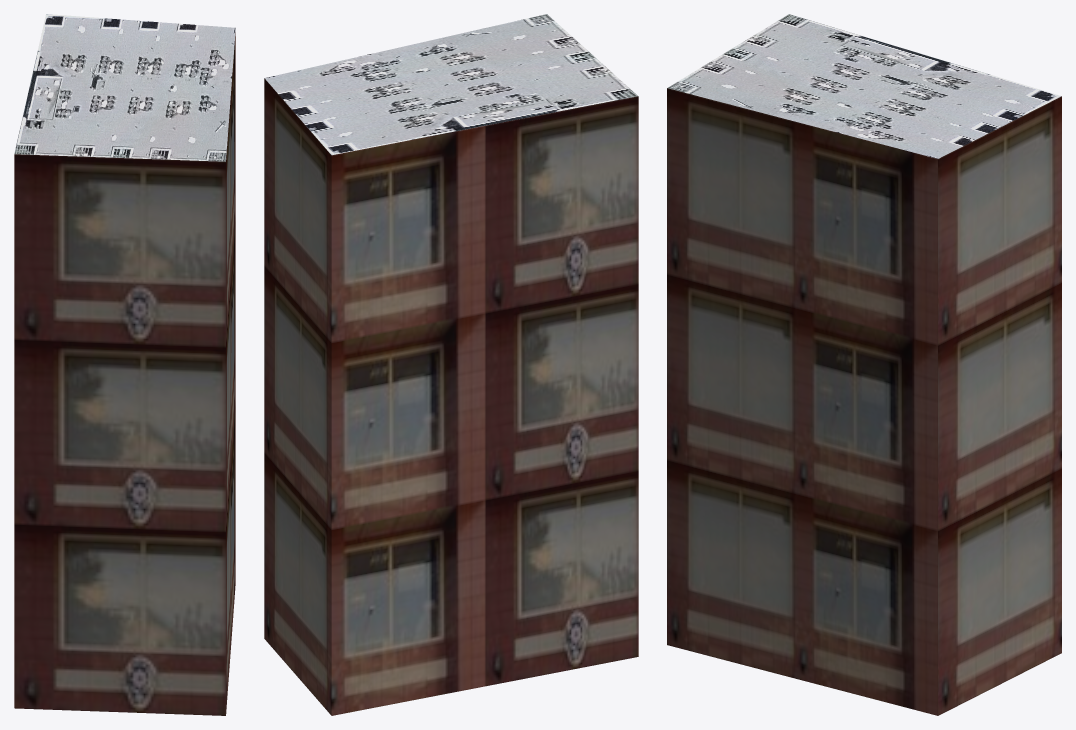
File: ResTex__1087.fbx
The picture shows the model from 3 angles, left to right: view 1: azimuth 30°, elevation 25°; view 2: azimuth 150°, elevation 25°; view 3: azimuth 270°, elevation 25°; orthographic projection.
Parts seen in each view (by area): view 1: CityEngineMaterial_13_m, CityEngineMaterial_2_m; view 2: CityEngineMaterial_13_m, CityEngineMaterial_2_m; view 3: CityEngineMaterial_13_m, CityEngineMaterial_2_m.
Part boxes in pixels (box(x1,y1,x2,y2)): CityEngineMaterial_13_m: box(14, 32, 235, 715); CityEngineMaterial_2_m: box(14, 14, 235, 161); CityEngineMaterial_13_m: box(264, 78, 638, 715); CityEngineMaterial_2_m: box(264, 14, 638, 155); CityEngineMaterial_13_m: box(667, 88, 1061, 715); CityEngineMaterial_2_m: box(667, 14, 1061, 158).
Size of the model in its own units: 5.03 by 9 by 5.78.
2 materials, 2 textured.
